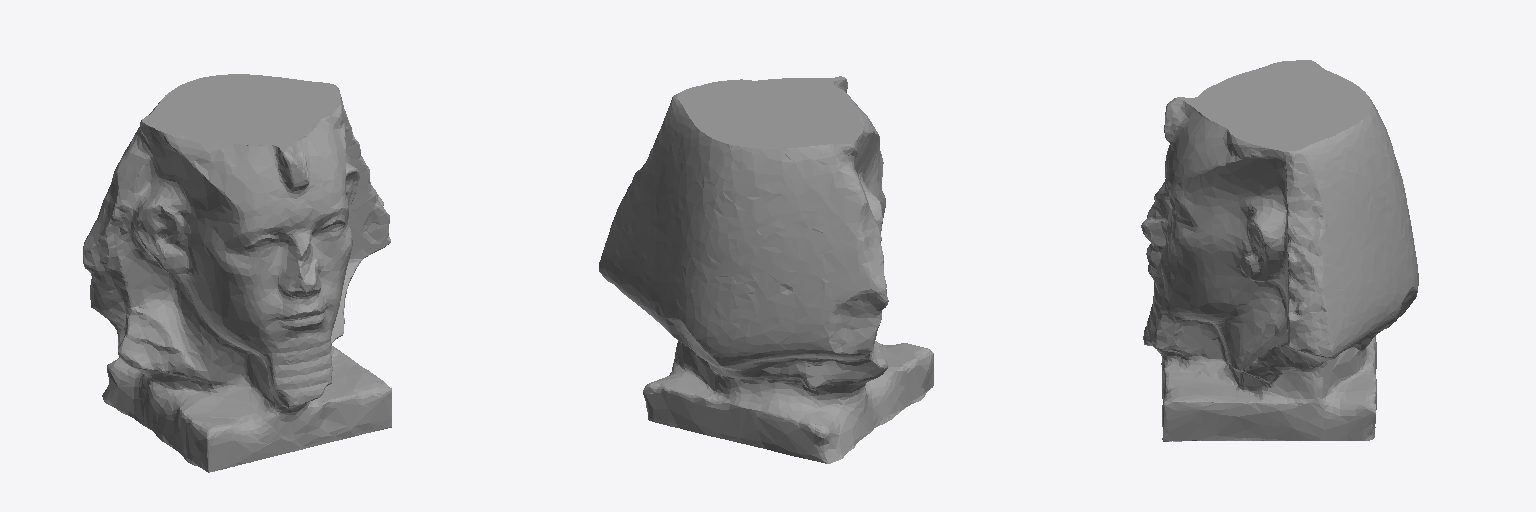
File: amenemhat.obj
3 views of the same model, side by side, from view 1: azimuth 30°, elevation 25°; view 2: azimuth 150°, elevation 25°; view 3: azimuth 270°, elevation 25° (orthographic).
Parts seen in each view (by area): view 1: sculpt; view 2: sculpt; view 3: sculpt.
Boxes of the visible parts, x1,y1,x2,y2 form: sculpt: [83, 74, 391, 472]; sculpt: [599, 76, 933, 463]; sculpt: [1141, 60, 1418, 441].
Size of the model in its own units: 4.52 by 4.36 by 3.71.